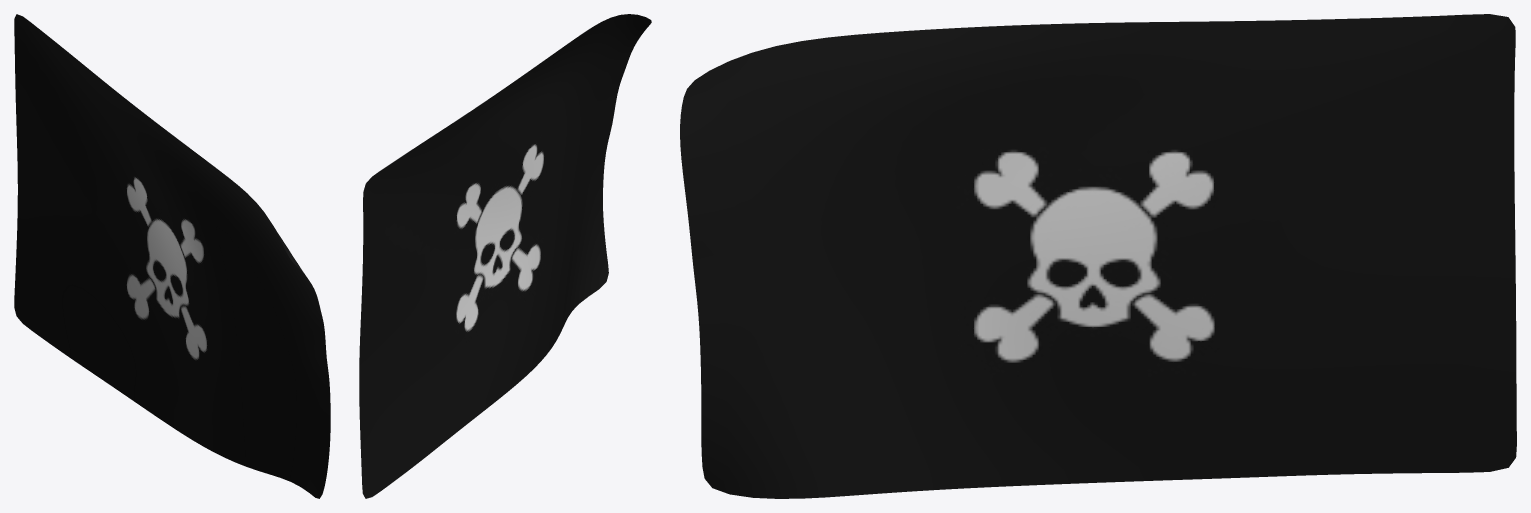
The model's file is flag.glb.
3 renders of one model, left to right at view 1: azimuth 30°, elevation 25°; view 2: azimuth 150°, elevation 25°; view 3: azimuth 270°, elevation 25°, orthographic. The views are drawn at different scales.
Visible parts, largest first — view 1: flag; view 2: flag; view 3: flag.
Boxes of the visible parts, <box> form: flag: <box>14,14,330,498</box>; flag: <box>359,14,651,498</box>; flag: <box>680,14,1516,498</box>.
Size of the model in its own units: 0.1825 by 1.21 by 1.98.
1 material, 1 textured.
